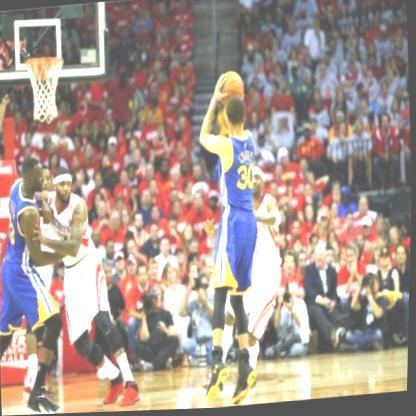basketball: (215, 67, 247, 104)
rim: (25, 56, 67, 123)
